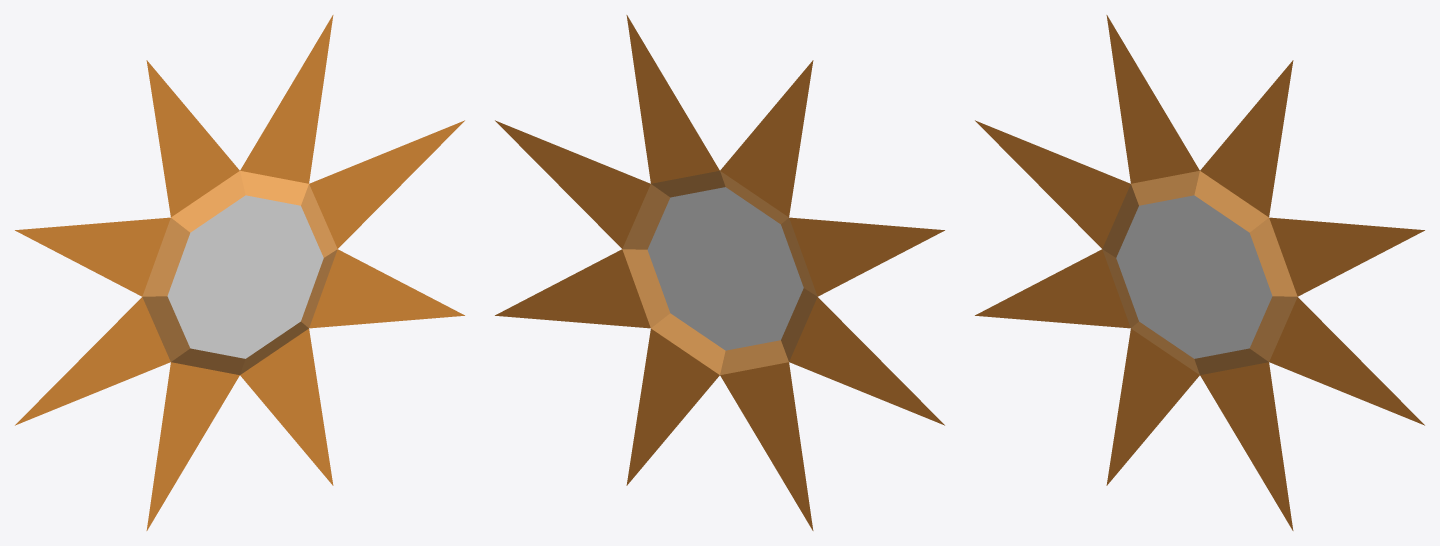
Rendered from low_poly_clock.fbx.
The picture shows the model from 3 angles, left to right: view 1: azimuth 30°, elevation 25°; view 2: azimuth 150°, elevation 25°; view 3: azimuth 330°, elevation 25°; orthographic projection.
Parts seen in each view (by area): view 1: Circle.004; view 2: Circle.004; view 3: Circle.004.
Boxes of the visible parts, <box> form: Circle.004: <box>15,15,464,530</box>; Circle.004: <box>495,15,944,530</box>; Circle.004: <box>975,15,1424,530</box>.
Size of the model in its own units: 462 by 462 by 10.
